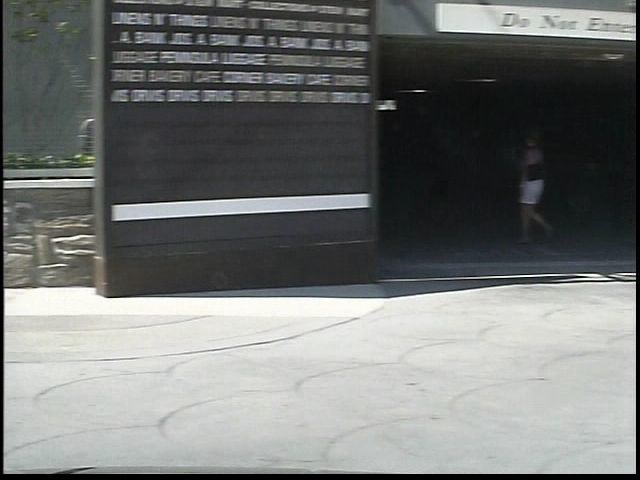person: (487, 127, 546, 250)
